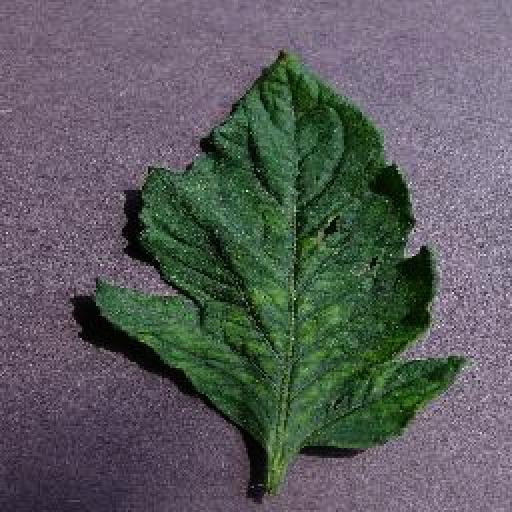disease_tomato: (89, 46, 463, 452)
